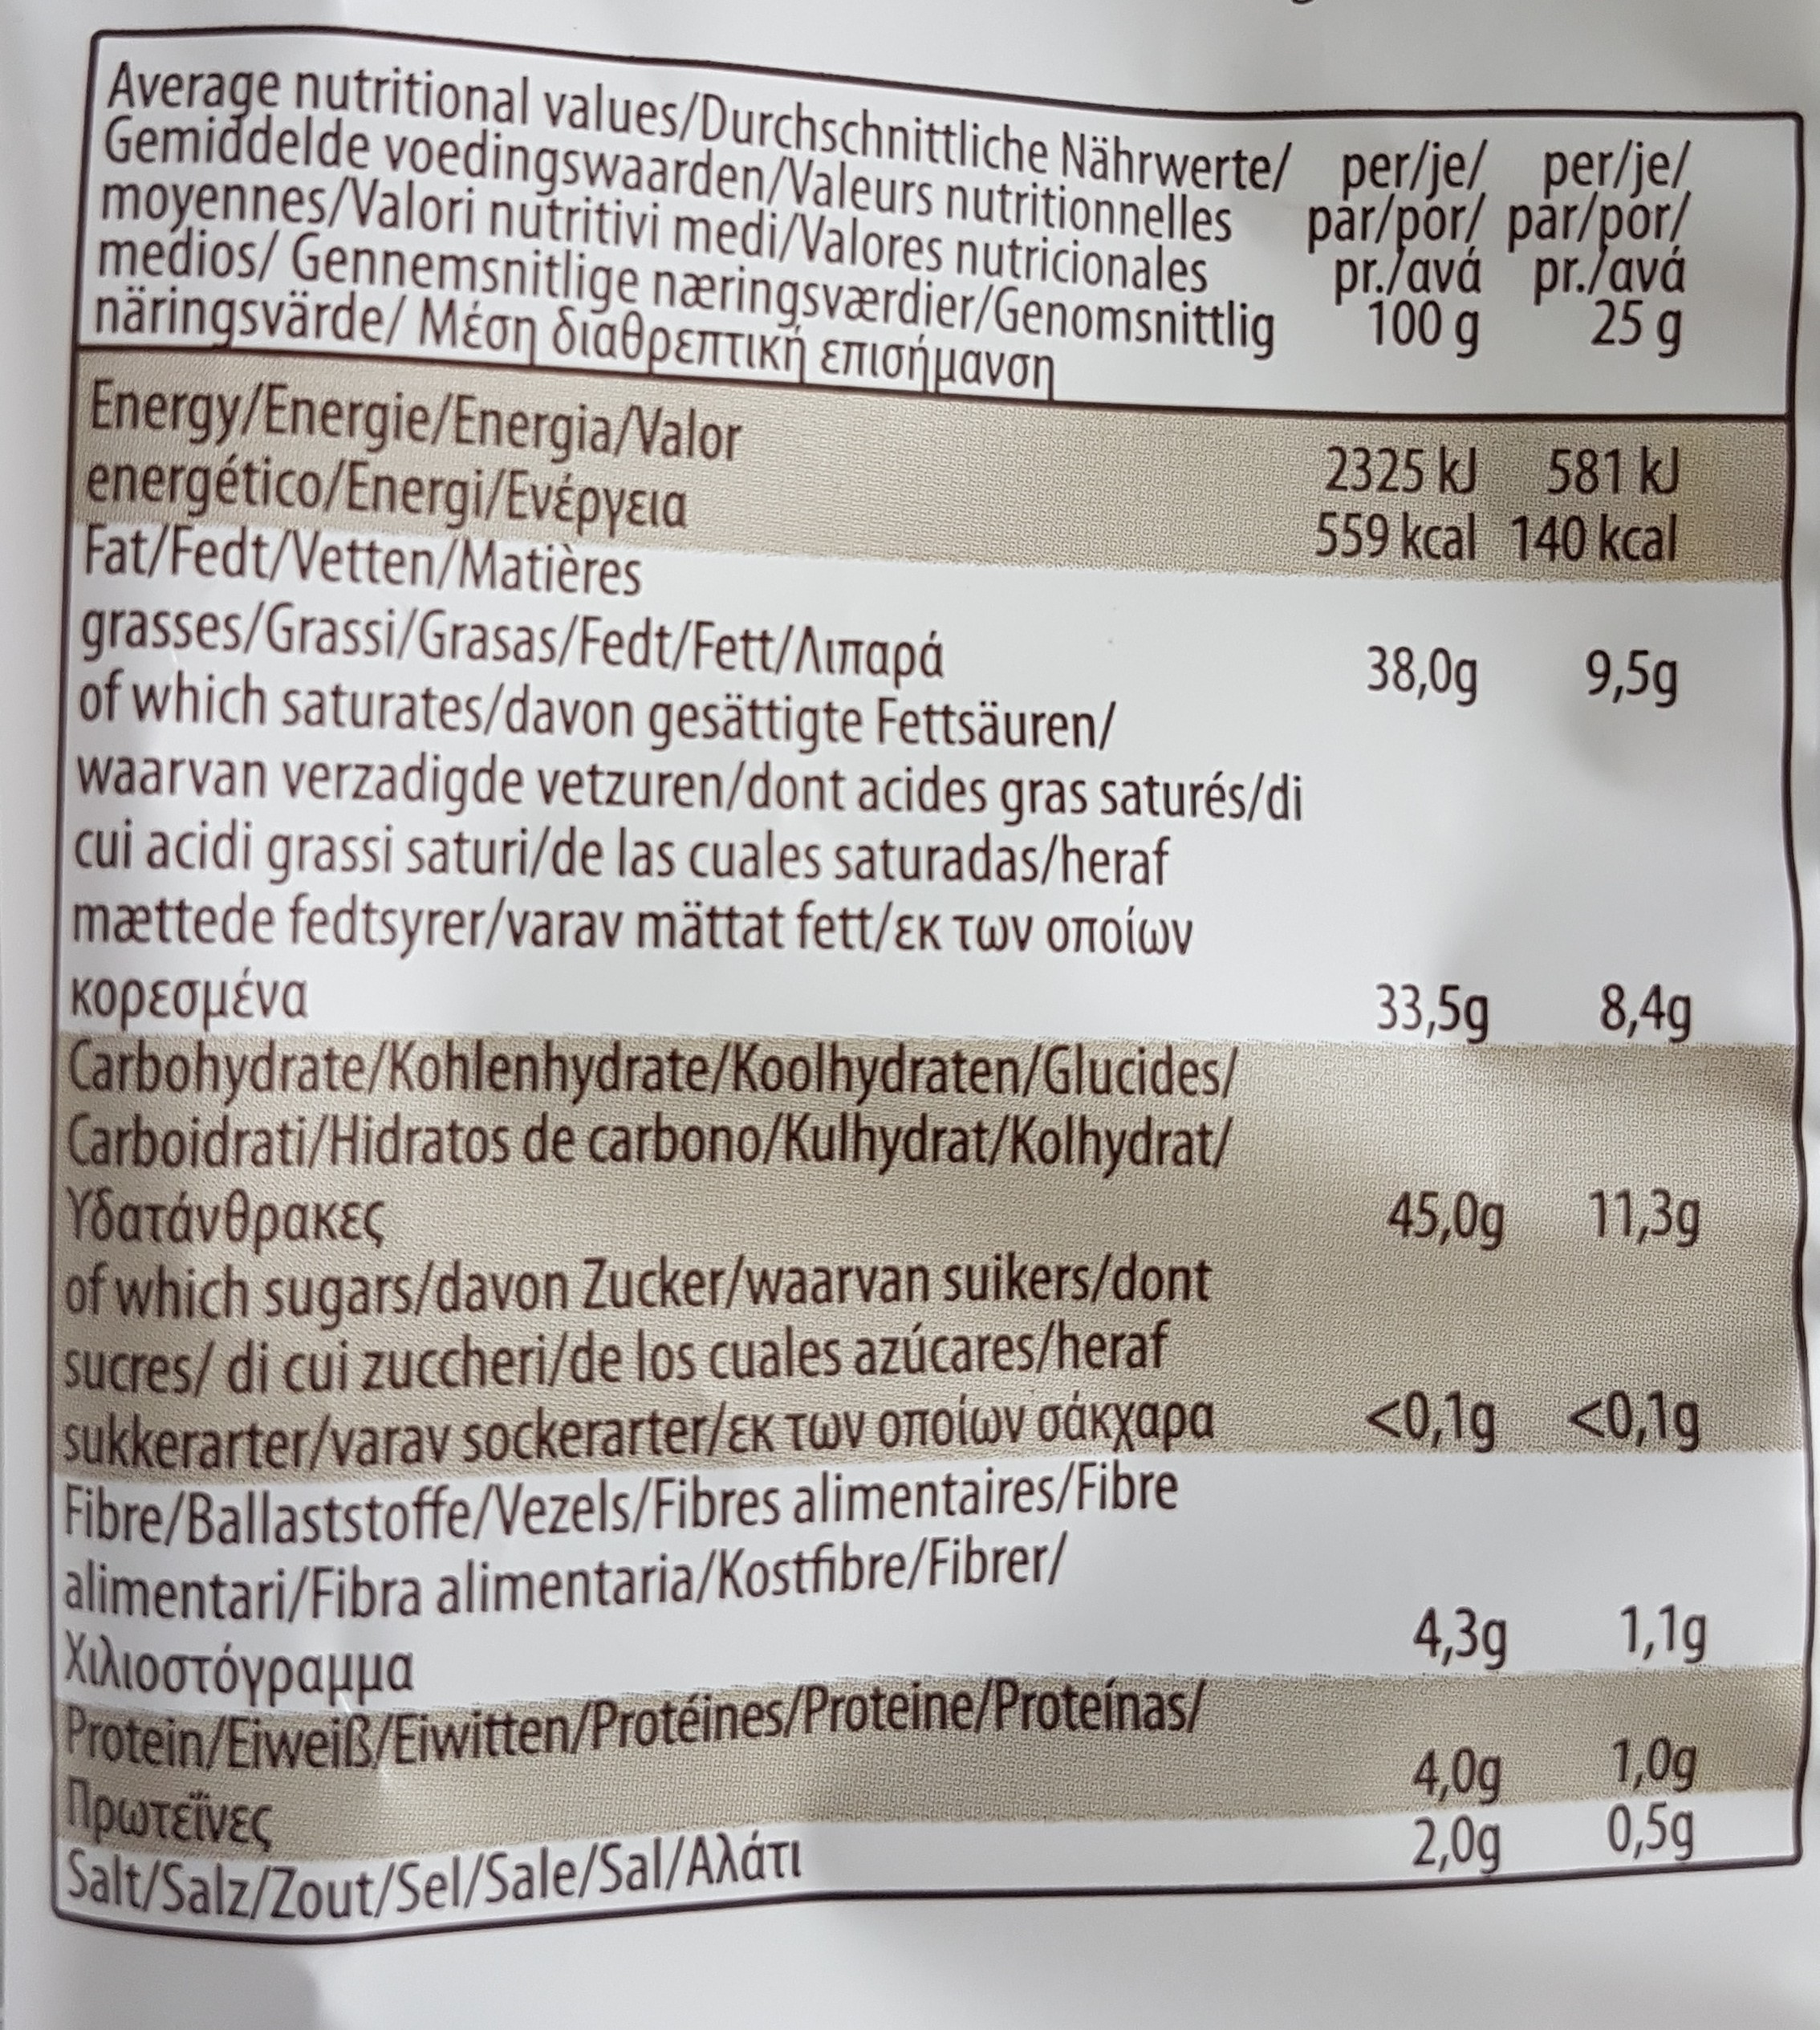column: (58, 54, 1293, 1900), (1520, 133, 1711, 1868), (1321, 125, 1506, 1890)
table: (40, 21, 1809, 1930)
